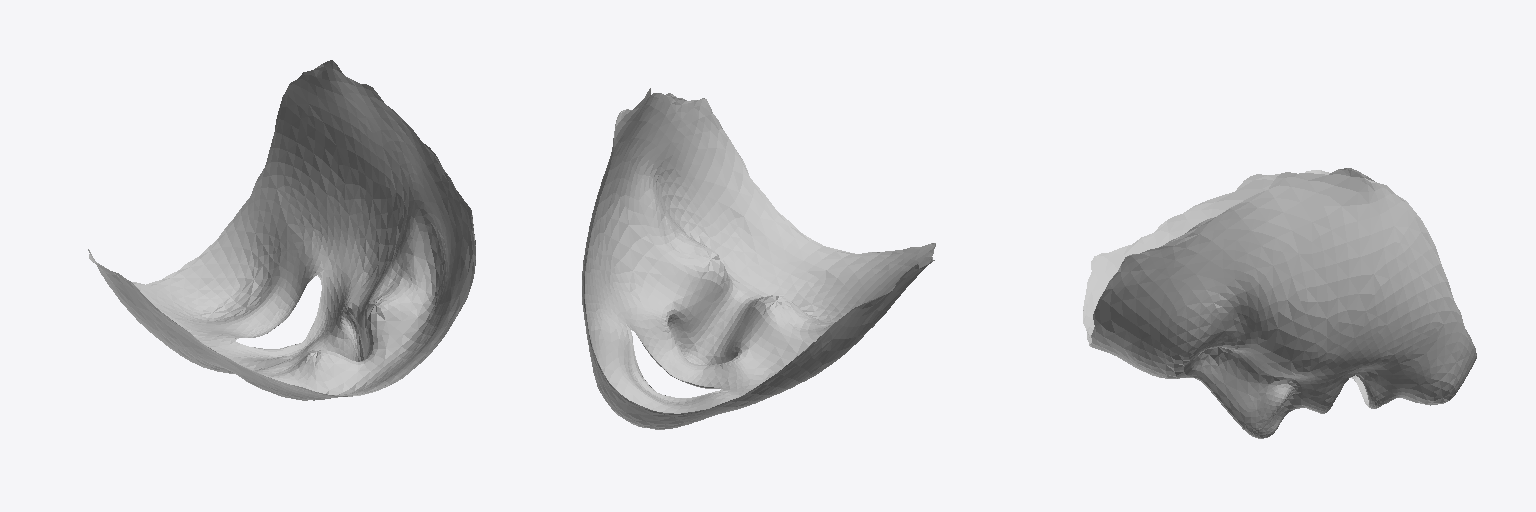
File: face_gab_sfm49.obj
3 renders of one model, left to right at view 1: azimuth 30°, elevation 25°; view 2: azimuth 150°, elevation 25°; view 3: azimuth 270°, elevation 25°, orthographic.
Size of the model in its own units: 166 by 156 by 196.